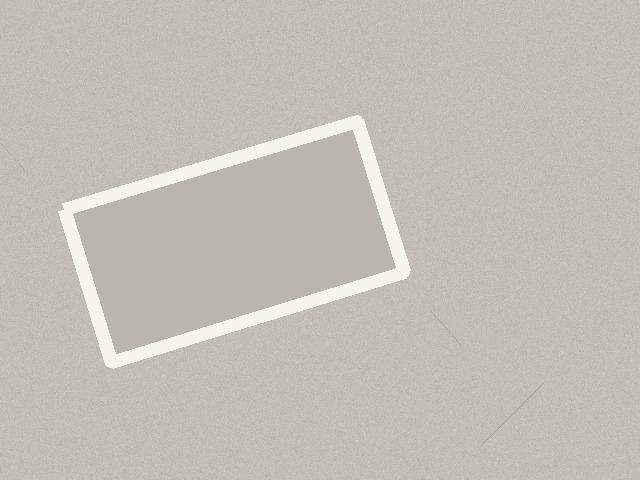parking_area: (64, 121, 404, 362)
